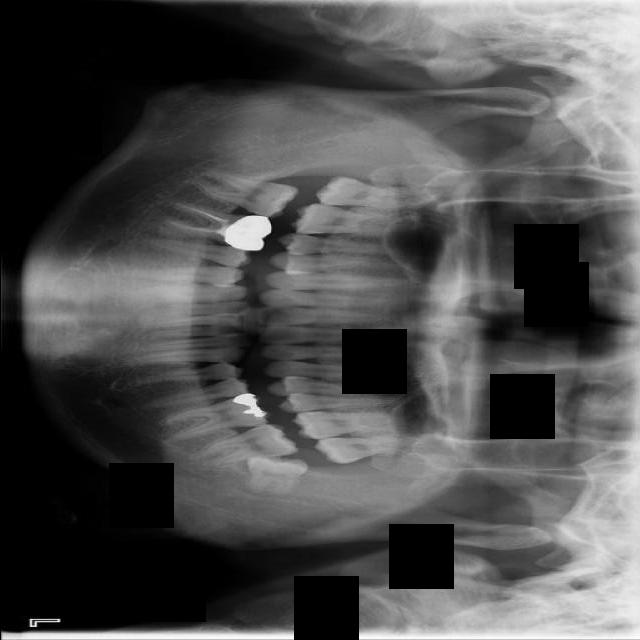52: (219, 384, 273, 440), (215, 207, 273, 256)
73: (162, 199, 241, 245), (62, 572, 72, 580)
BioHorizons Implant: (312, 432, 432, 466)
Biomet 3i Implant: (244, 452, 309, 497)
Blue Sky Bio Implant: (190, 419, 299, 469)
Caries: (314, 175, 436, 213)
Implant: (190, 167, 299, 224)
